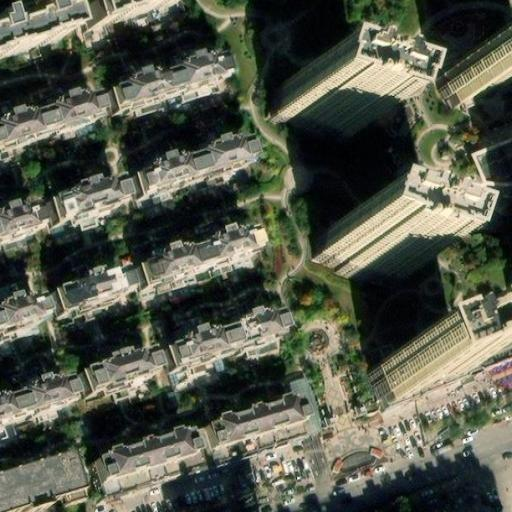building: (103, 53, 225, 114), (131, 228, 256, 286), (159, 312, 284, 370), (126, 140, 251, 197), (366, 332, 462, 399), (0, 93, 100, 151), (307, 228, 402, 285), (436, 41, 512, 108), (201, 397, 297, 449), (91, 430, 187, 482), (267, 84, 354, 139), (48, 269, 132, 314), (0, 378, 74, 428), (74, 350, 158, 394), (41, 180, 124, 224), (450, 313, 512, 369), (79, 0, 177, 34), (0, 7, 62, 56)
